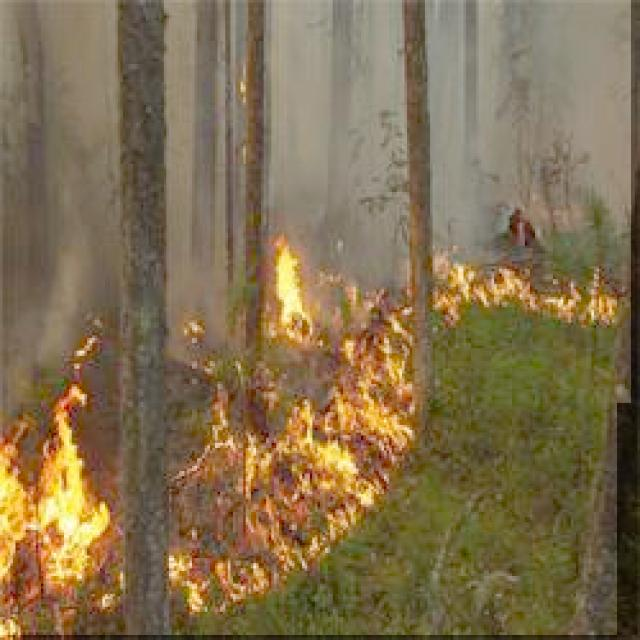Fire: (0, 236, 617, 635)
Smoke: (0, 0, 631, 403)
